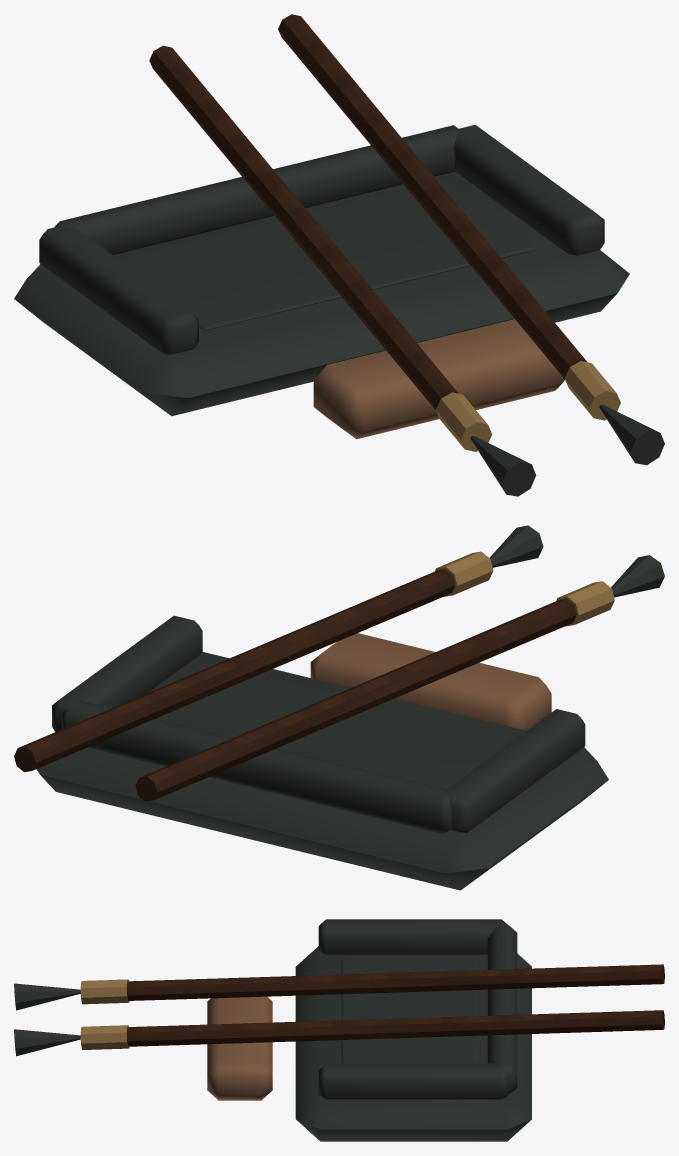
Rendered from prop_brush_inkstone.glb.
The picture shows the model from 3 angles, top to bottom: view 1: azimuth 30°, elevation 25°; view 2: azimuth 150°, elevation 25°; view 3: azimuth 270°, elevation 25°; orthographic projection. The views are drawn at different scales.
Parts seen in each view (by area): view 1: prop_brush_inkstone.002; view 2: prop_brush_inkstone.002; view 3: prop_brush_inkstone.002.
Boxes of the visible parts, x1,y1,x2,y2 form: prop_brush_inkstone.002: (14, 14, 664, 496); prop_brush_inkstone.002: (14, 525, 664, 890); prop_brush_inkstone.002: (14, 919, 664, 1141).
Bounding box in the file's own units: 1.25 × 0.3519 × 1.98.
4 materials, 1 textured.
